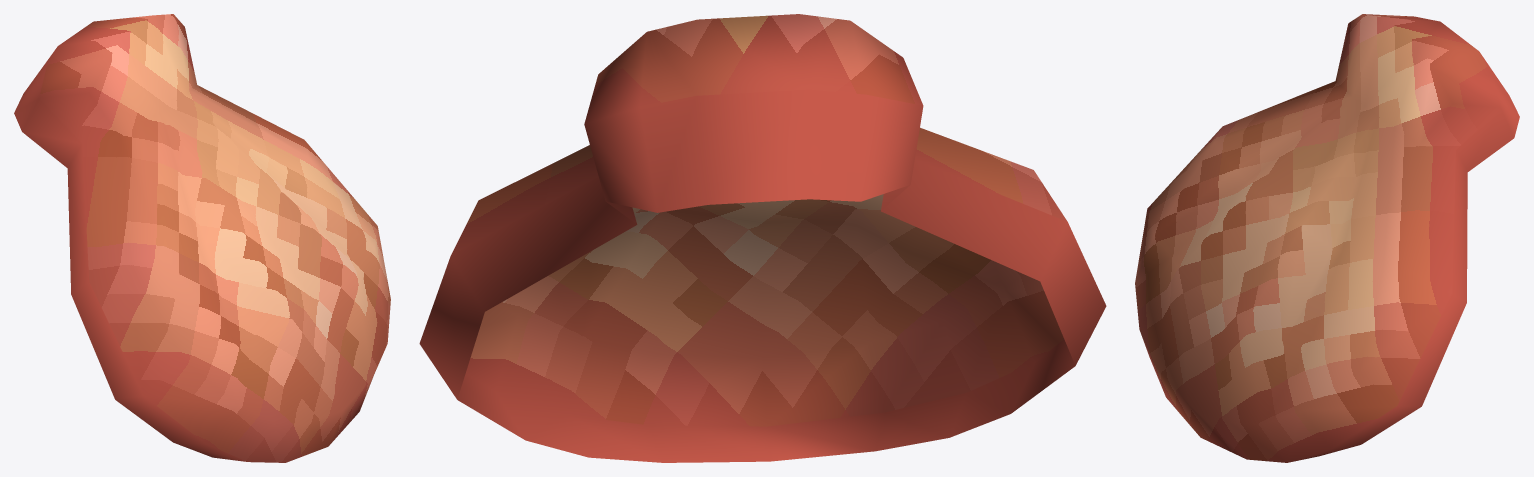
File: fg_bivalve.dae
3 renders of one model, left to right at view 1: azimuth 30°, elevation 25°; view 2: azimuth 150°, elevation 25°; view 3: azimuth 270°, elevation 25°, orthographic. The views are drawn at different scales.
Visible parts, largest first — view 1: fg_bivalve; view 2: fg_bivalve; view 3: fg_bivalve.
Boxes of the visible parts, x1,y1,x2,y2 form: fg_bivalve: (14,14,390,462); fg_bivalve: (419,14,1106,462); fg_bivalve: (1135,14,1519,462).
Bounding box in the file's own units: 8.71 × 8.88 × 8.4.
Materials: 1 (1 with a texture image).
